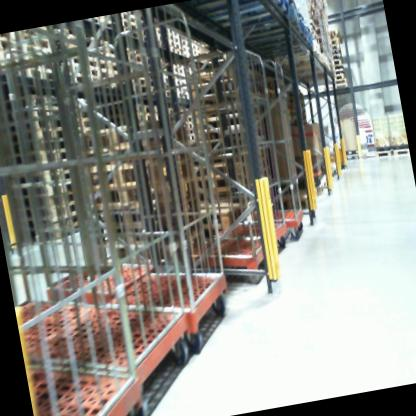pallet: (86, 73, 347, 155), (96, 188, 200, 239), (95, 169, 204, 211), (87, 153, 194, 194), (89, 132, 185, 173), (0, 117, 78, 153), (0, 131, 75, 164), (0, 98, 70, 132), (0, 143, 75, 173), (196, 196, 250, 237), (0, 88, 69, 120), (1, 163, 79, 191), (0, 108, 74, 136), (8, 176, 82, 202), (8, 192, 83, 216), (185, 73, 243, 102), (201, 169, 257, 199), (24, 220, 86, 245), (16, 200, 83, 223), (21, 211, 86, 232), (24, 62, 62, 94), (23, 49, 59, 73), (22, 40, 57, 64), (68, 71, 103, 93), (68, 61, 102, 83), (71, 49, 101, 73), (18, 28, 50, 49), (0, 49, 22, 77), (104, 41, 125, 65), (128, 64, 147, 86), (125, 54, 144, 75), (0, 40, 18, 62), (120, 25, 141, 43), (364, 147, 392, 160), (73, 106, 96, 121), (75, 118, 98, 133), (128, 78, 147, 96), (329, 81, 350, 97), (120, 17, 139, 32), (328, 26, 344, 43), (166, 35, 182, 52), (166, 44, 185, 58), (112, 72, 129, 87), (109, 61, 127, 75), (0, 34, 16, 49), (391, 146, 409, 158), (344, 148, 360, 161), (119, 11, 136, 23), (128, 47, 143, 60), (166, 31, 181, 44), (184, 133, 200, 143), (331, 78, 347, 87), (181, 114, 195, 124), (331, 46, 341, 56), (331, 57, 343, 65), (329, 37, 339, 46), (330, 41, 339, 50), (332, 63, 343, 70), (333, 68, 344, 75), (332, 53, 342, 59), (185, 128, 194, 134), (184, 123, 192, 129)
